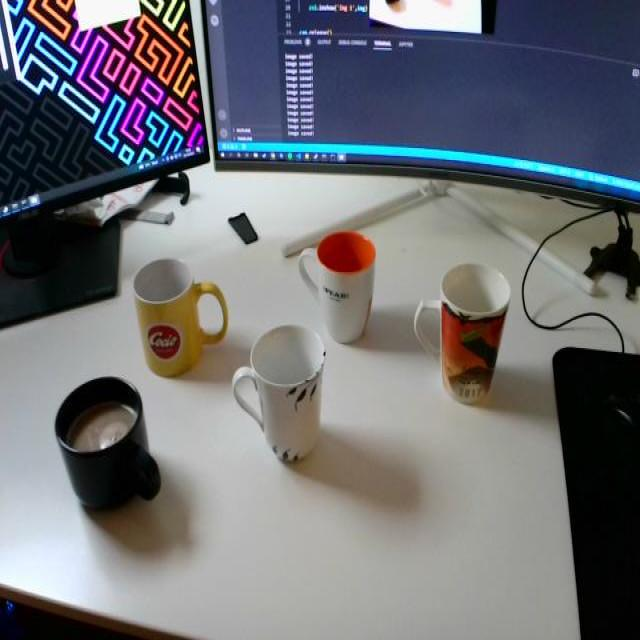cup: (49, 366, 169, 522), (218, 315, 334, 462), (414, 248, 510, 414), (128, 256, 226, 376), (290, 225, 380, 347)
